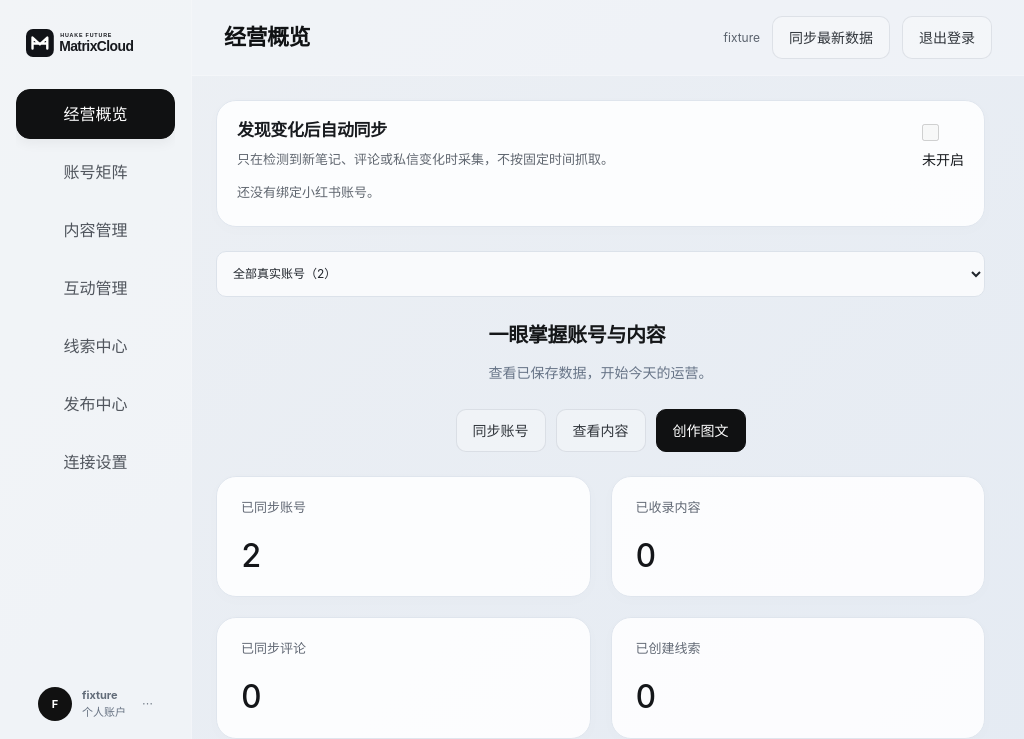
it: shows which remaining account was paused after the first submission fails
Expected: the text "已同步账号" is shown, [241, 499, 306, 515]
What coordinates should you click on to do the following:
click the button "账号矩阵"
I would click on:
 (96, 172)
Its box is [16, 147, 175, 197].
(page scrolled)
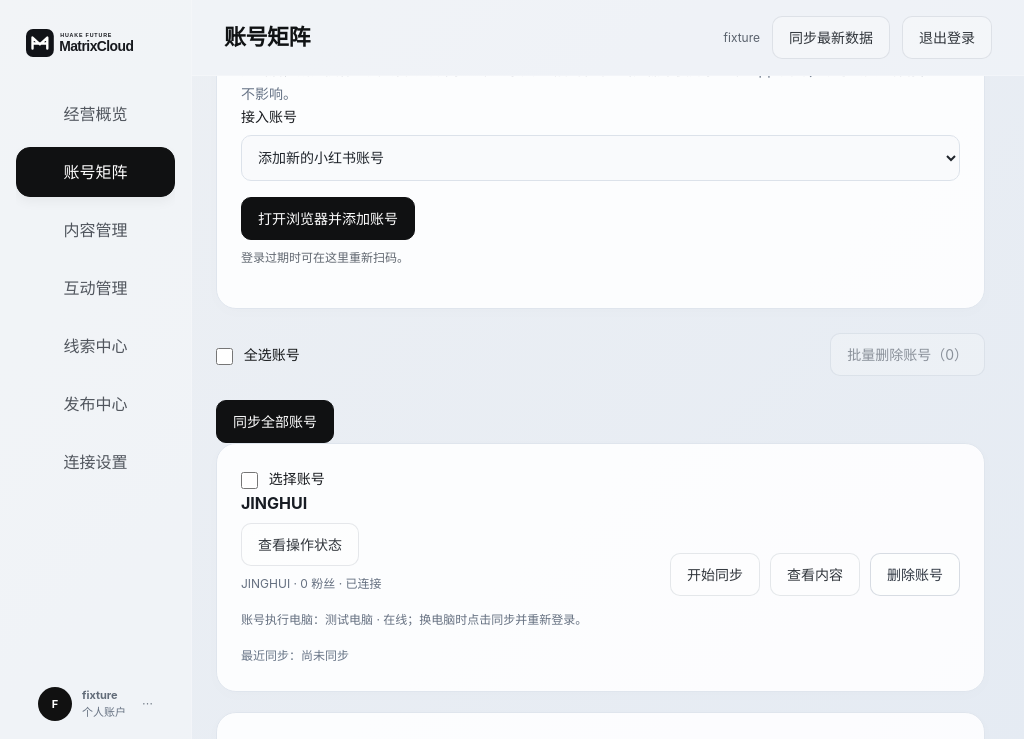
Expected: the heading "JINGHUI" is shown, [241, 492, 307, 512]
What coordinates should you click on to do the following:
click the button "同步全部账号"
I would click on:
 (275, 422)
Its box is [216, 400, 334, 443].
(page scrolled)
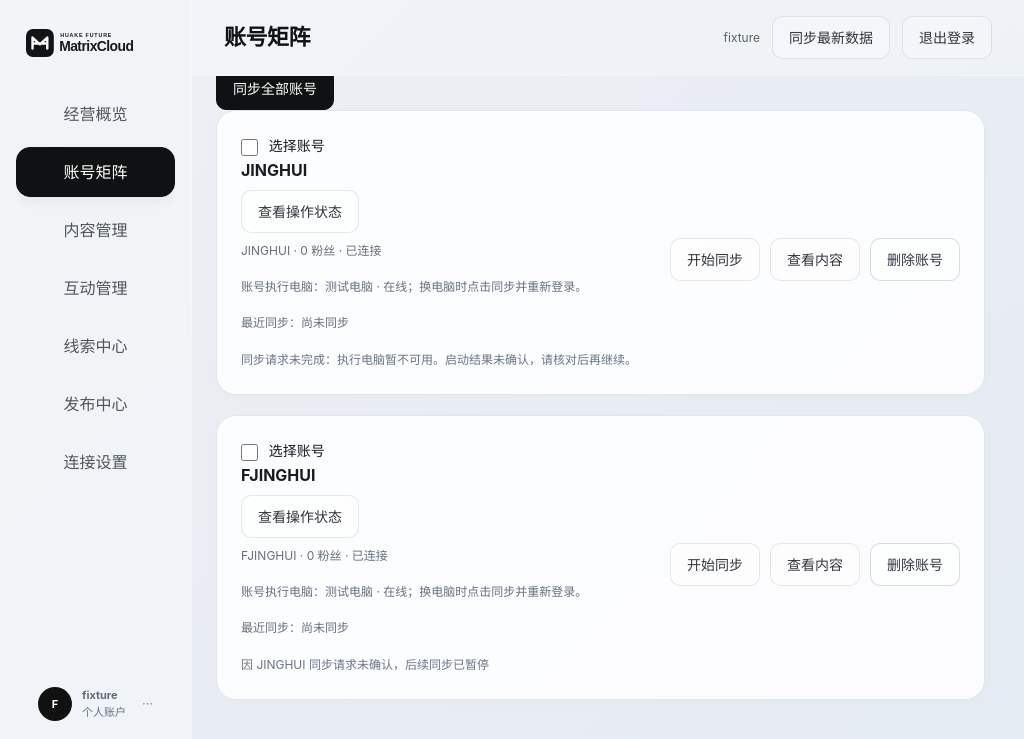
Expected: the message "同步请求未完成：执行电脑暂不可用。启动结果未确认，请核对后再继续。" is shown, [241, 350, 637, 370]
Expected: the message "因 JINGHUI 同步请求未确认，后续同步已暂停" is shown, [241, 657, 489, 672]
